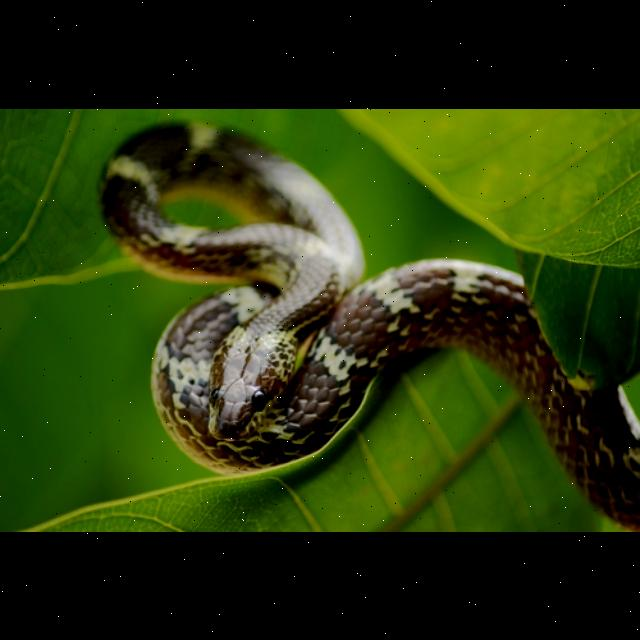snake: (95, 120, 640, 532)
